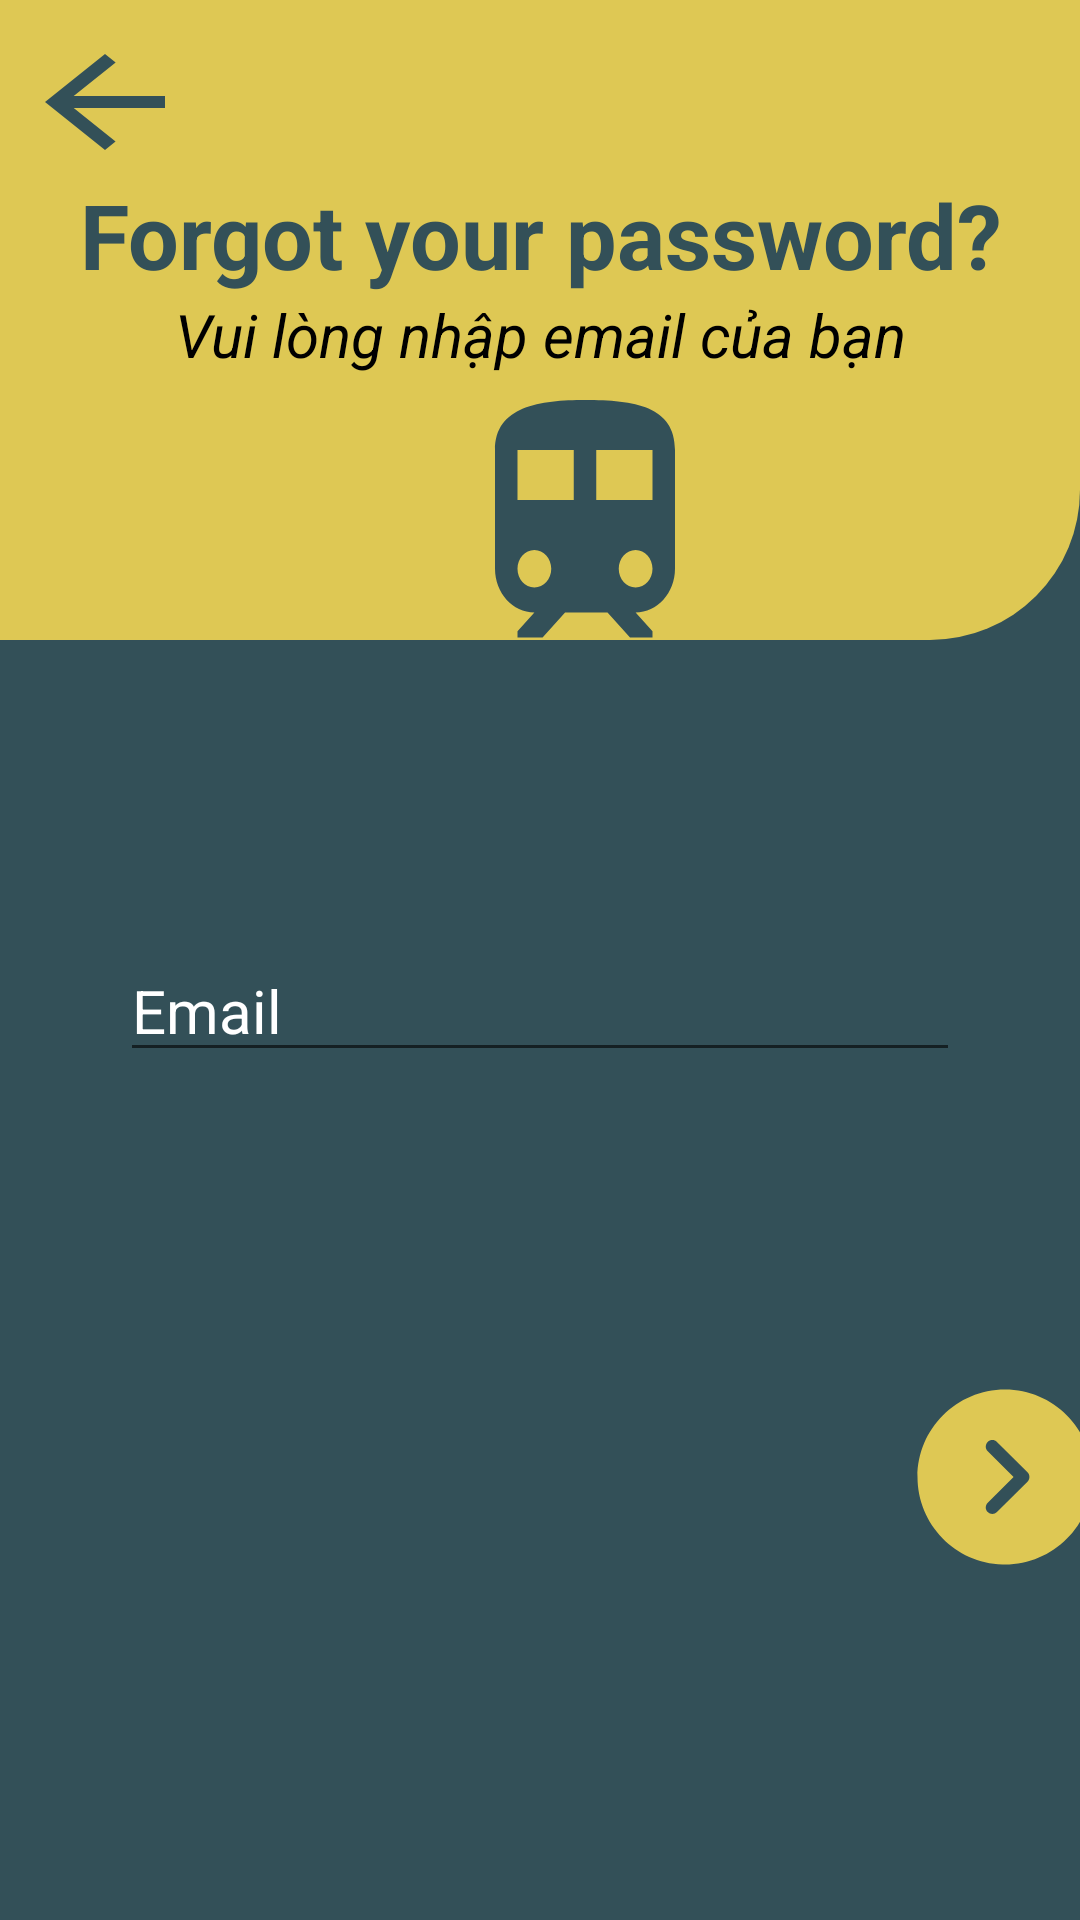

Icon bounding boxes for this 1080 x 1920 phone screenshot, format (x1, y1, x2, y2):
arrow back: (45, 54, 165, 150)
